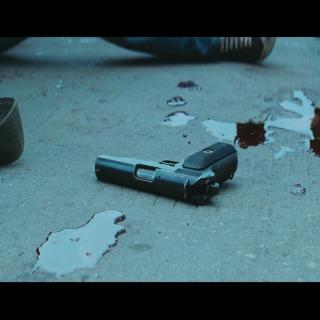gun: (88, 135, 239, 206)
